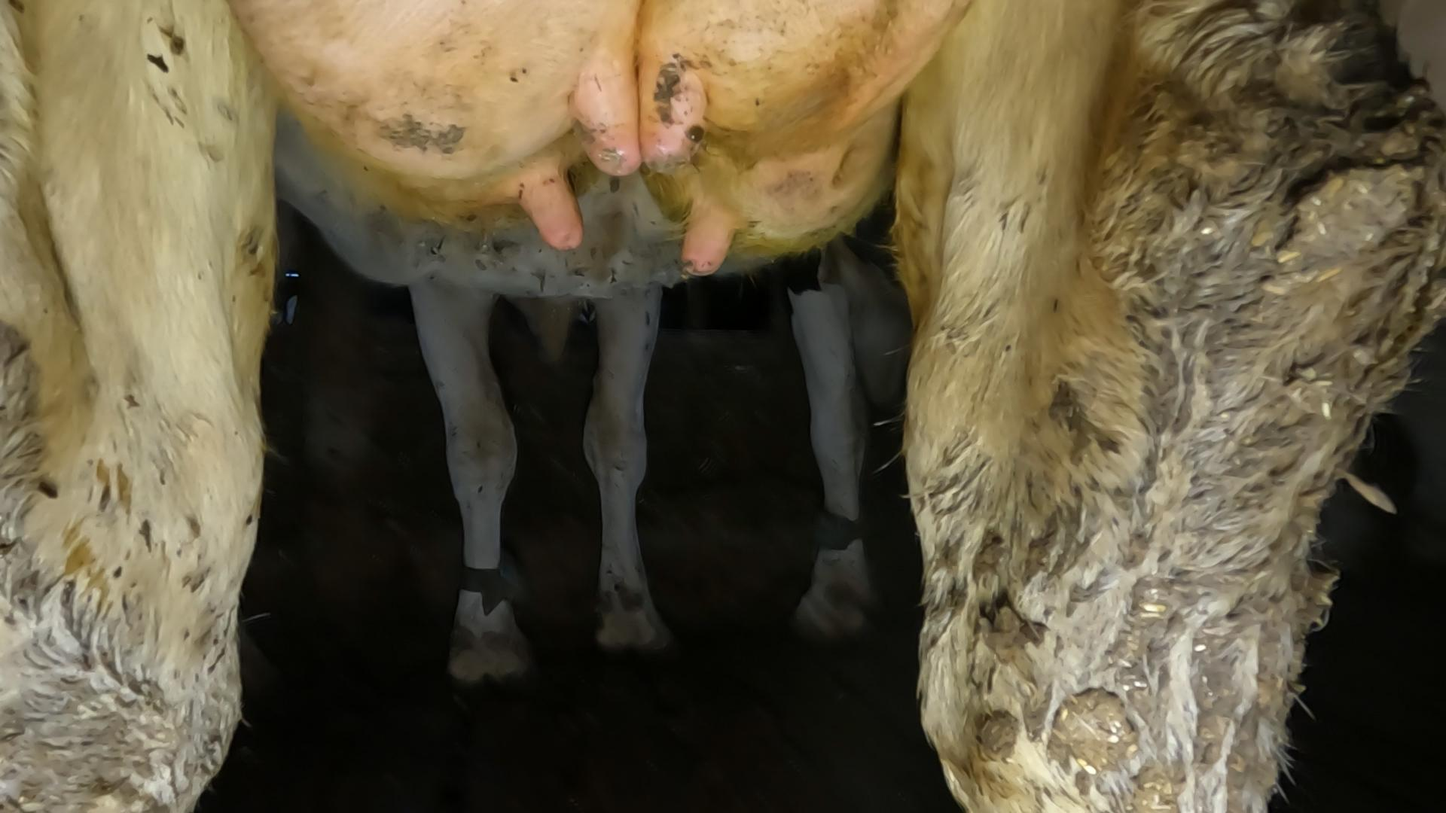Zitze: (550, 56, 641, 193), (628, 70, 715, 190), (504, 162, 591, 262), (670, 207, 734, 285)
